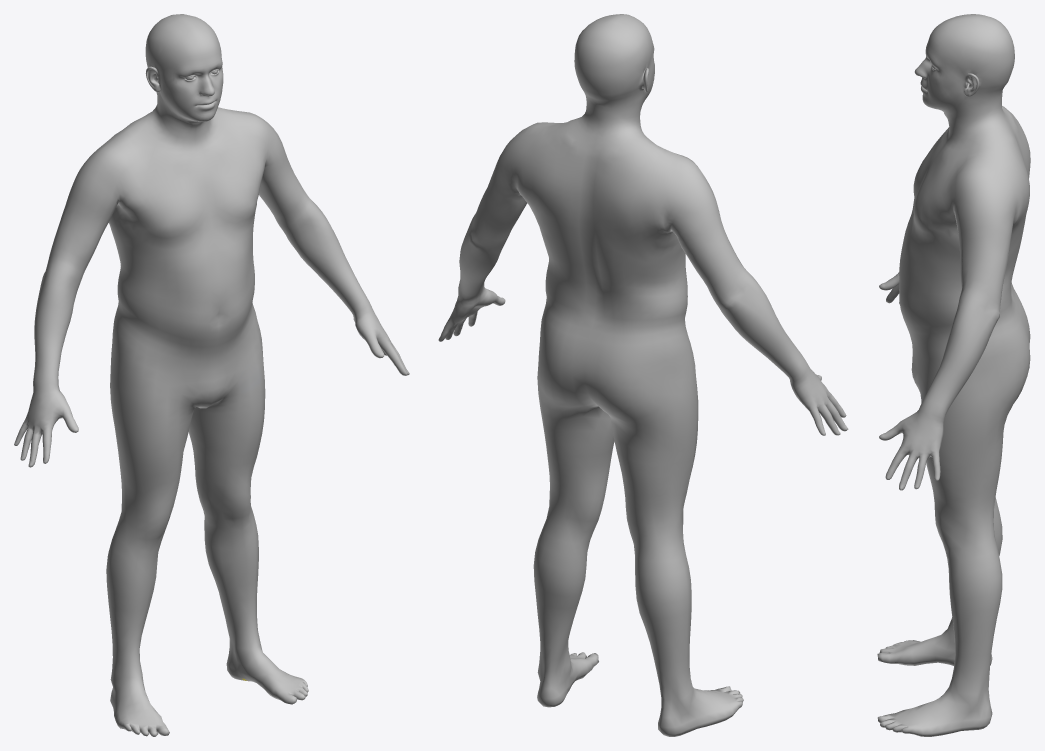
Rendered from 1135025-supine-red+yellow.gltf.
3 views of the same model, side by side, from view 1: azimuth 30°, elevation 25°; view 2: azimuth 150°, elevation 25°; view 3: azimuth 270°, elevation 25° (orthographic). The views are drawn at different scales.
Visible parts, largest first — view 1: Male 68in 180lbs-A-pose; view 2: Male 68in 180lbs-A-pose; view 3: Male 68in 180lbs-A-pose.
Part boxes in pixels (<box>): Male 68in 180lbs-A-pose: <box>14,14,409,736</box>; Male 68in 180lbs-A-pose: <box>438,14,848,736</box>; Male 68in 180lbs-A-pose: <box>877,14,1030,736</box>.
Bounding box in the file's own units: 3.06 × 5.17 × 1.05.
1 material, 1 textured.
